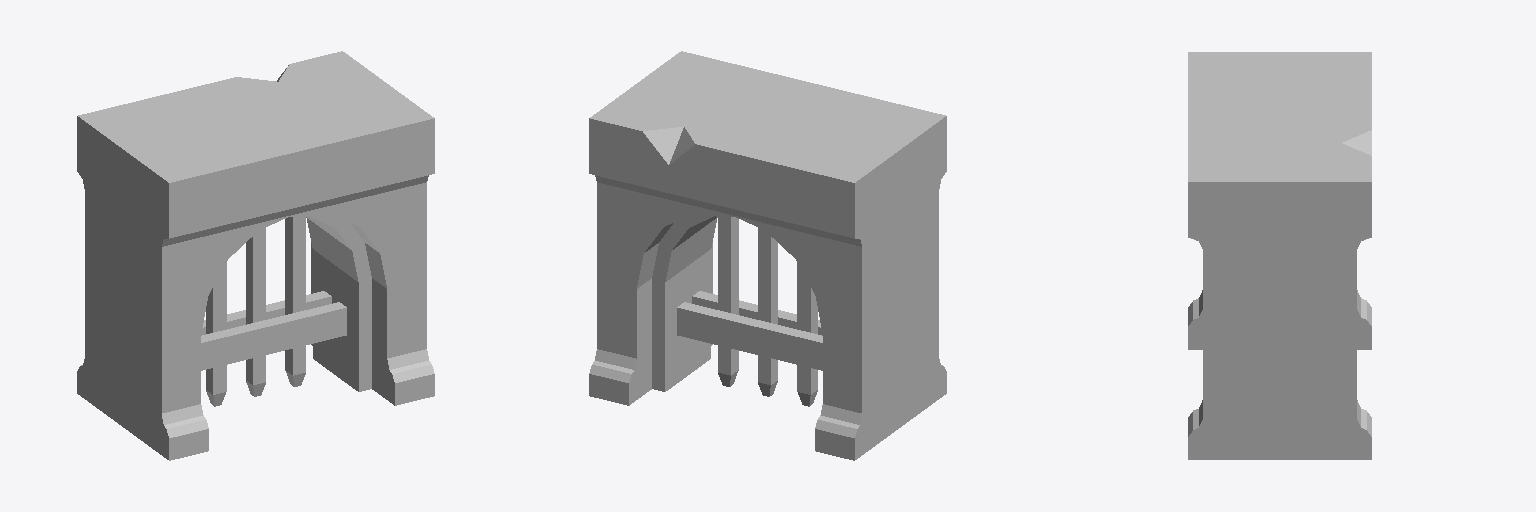
File: wall-gate@gate.001.obj
The picture shows the model from 3 angles: view 1: azimuth 30°, elevation 25°; view 2: azimuth 150°, elevation 25°; view 3: azimuth 270°, elevation 25°; orthographic projection.
Visible parts, largest first — view 1: wall-gate.003; view 2: wall-gate.003; view 3: wall-gate.003.
Boxes of the visible parts, <box> form: wall-gate.003: <box>77,51,434,460</box>; wall-gate.003: <box>589,51,946,460</box>; wall-gate.003: <box>1188,52,1371,459</box>.
Size of the model in its own units: 17.02 by 17.02 by 10.21.